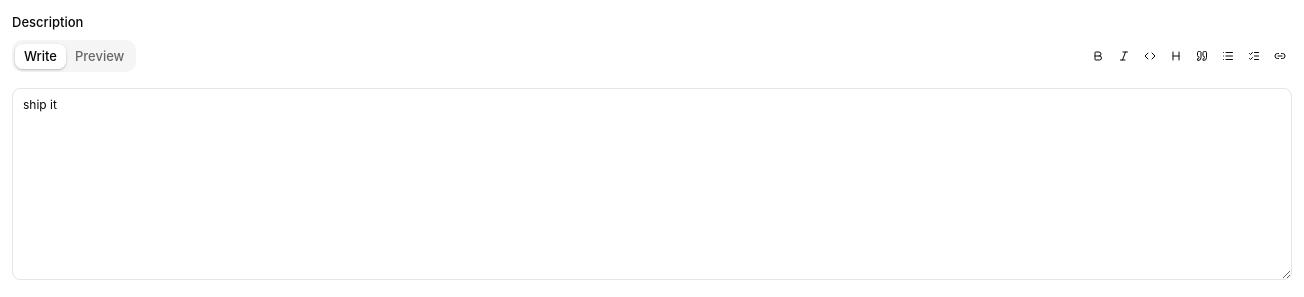
Scenario: MarkdownField toolbar › writes a task list as GitLab and GitHub both parse it
Click the button named "Task list" at point(1254, 56), box x1=1242 y1=44 x2=1266 y2=68
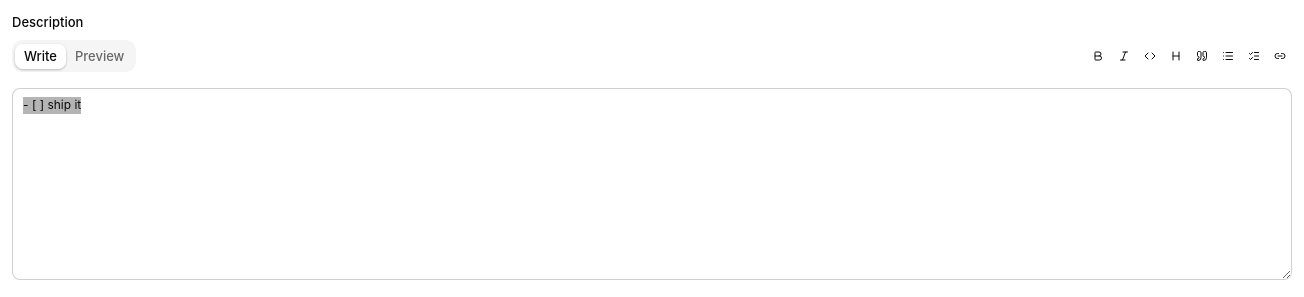
Expected: the text box named "Description" holds "- [ ] ship it"
